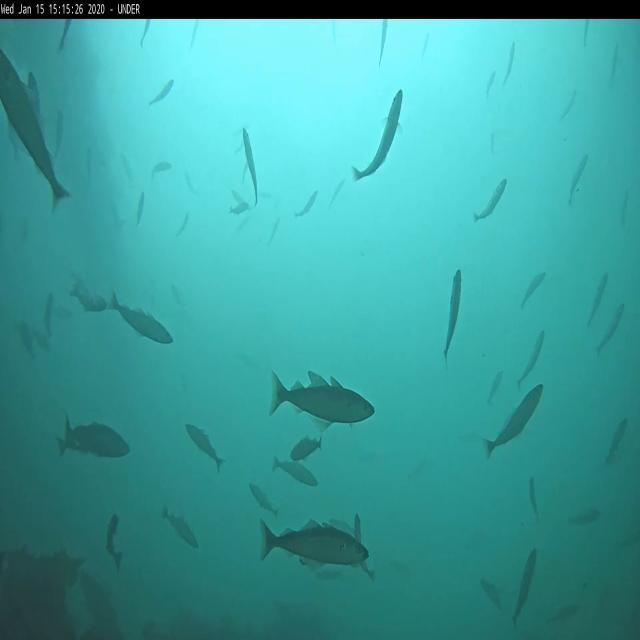fish: (1, 52, 71, 212), (268, 368, 376, 433), (259, 520, 370, 567), (481, 382, 547, 461), (352, 89, 405, 181), (110, 292, 174, 344), (65, 418, 130, 456), (183, 421, 224, 472), (513, 548, 537, 628), (516, 328, 546, 388), (443, 268, 462, 361), (162, 504, 198, 550), (272, 456, 318, 488), (354, 516, 376, 580), (474, 179, 506, 221), (604, 418, 628, 468), (70, 283, 106, 313), (248, 483, 278, 518), (106, 514, 124, 572), (568, 154, 588, 206), (520, 271, 548, 306), (27, 72, 42, 126), (148, 78, 174, 107), (481, 578, 504, 610), (330, 516, 362, 539), (294, 190, 318, 219), (292, 436, 322, 458), (546, 605, 580, 624), (326, 180, 346, 212), (502, 44, 515, 90), (568, 509, 601, 526), (528, 479, 540, 524), (44, 294, 54, 342), (378, 19, 388, 66), (487, 371, 502, 402), (22, 321, 34, 359), (560, 92, 576, 120), (58, 432, 76, 454), (34, 327, 52, 349), (150, 161, 172, 178), (59, 20, 72, 48), (228, 202, 250, 218), (55, 109, 62, 158), (139, 19, 151, 47), (231, 190, 248, 209), (620, 192, 628, 232), (268, 218, 280, 244), (486, 70, 496, 100), (190, 20, 200, 48), (610, 48, 618, 82), (136, 192, 144, 226), (582, 19, 590, 47), (177, 214, 188, 233), (422, 36, 429, 58)
